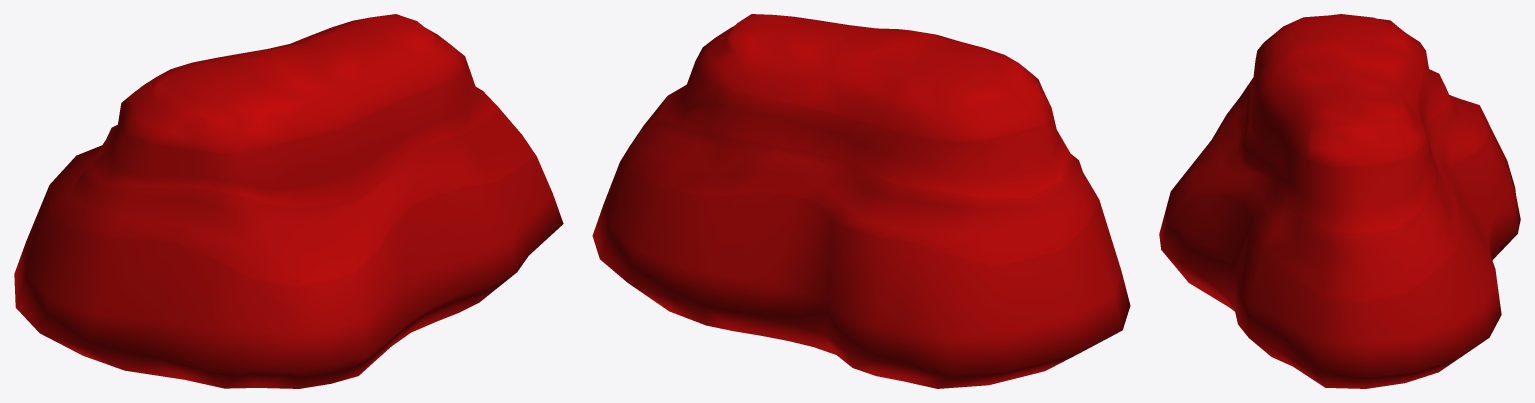
The model's file is geology-landforms-sandhill_v1.fbx.
3 renders of one model, left to right at view 1: azimuth 30°, elevation 25°; view 2: azimuth 150°, elevation 25°; view 3: azimuth 270°, elevation 25°, orthographic. The views are drawn at different scales.
Visible parts, largest first — view 1: SandHill_v1; view 2: SandHill_v1; view 3: SandHill_v1.
Part boxes in pixels (x1,y1,x2,y2): SandHill_v1: (14,14,563,388); SandHill_v1: (592,14,1130,388); SandHill_v1: (1159,14,1520,388).
Size of the model in its own units: 85.1 by 41.14 by 57.39.
